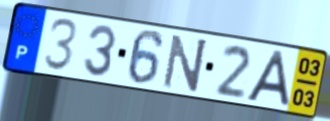2: (215, 44, 253, 99)
3: (42, 17, 80, 73), (82, 23, 118, 79)
6: (126, 28, 165, 87)
A: (243, 49, 292, 109)
N: (161, 33, 210, 93)
